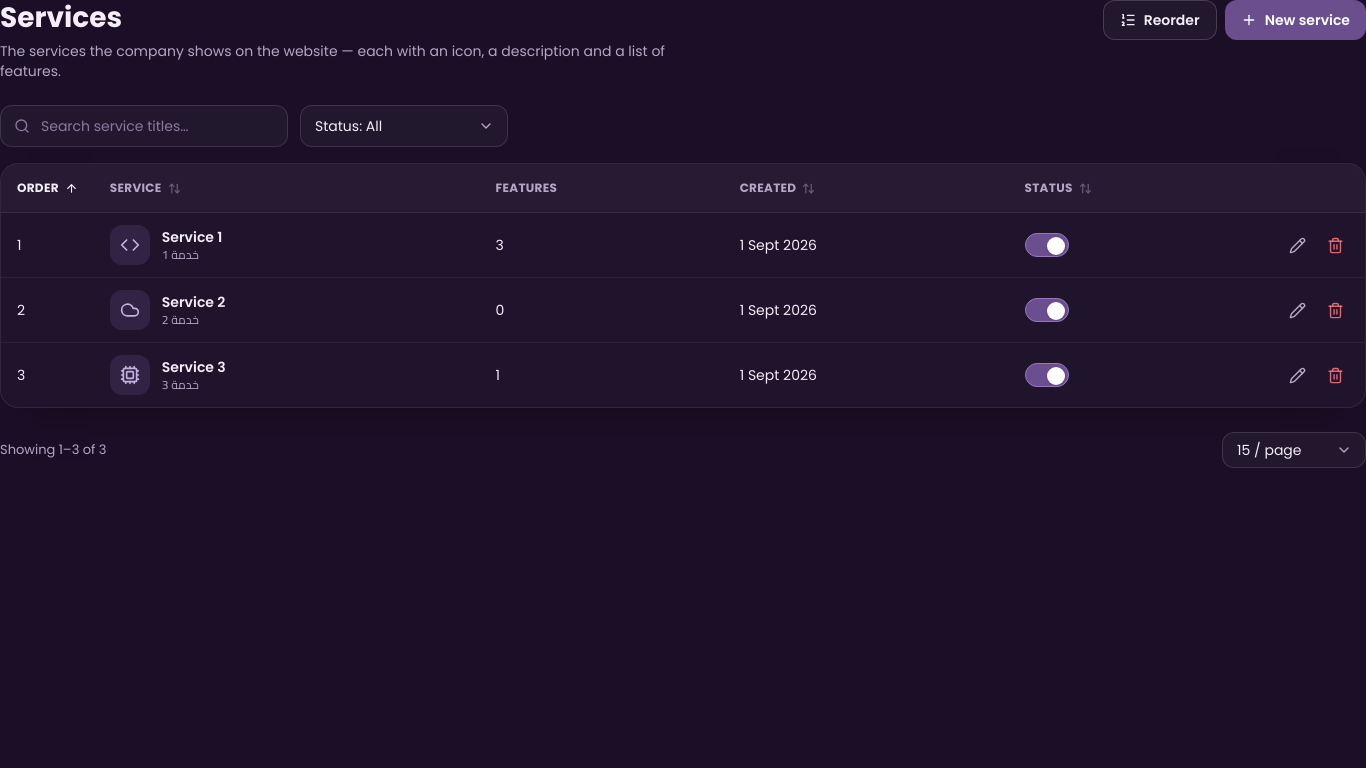
ServiceList › delete › does nothing when the dialog is cancelled
Expected: the text "Service 2" is shown, [162, 292, 225, 312]
Click the button named "Delete" in the row of "Service 2". click: click(1335, 310)
box: [1317, 292, 1353, 328]
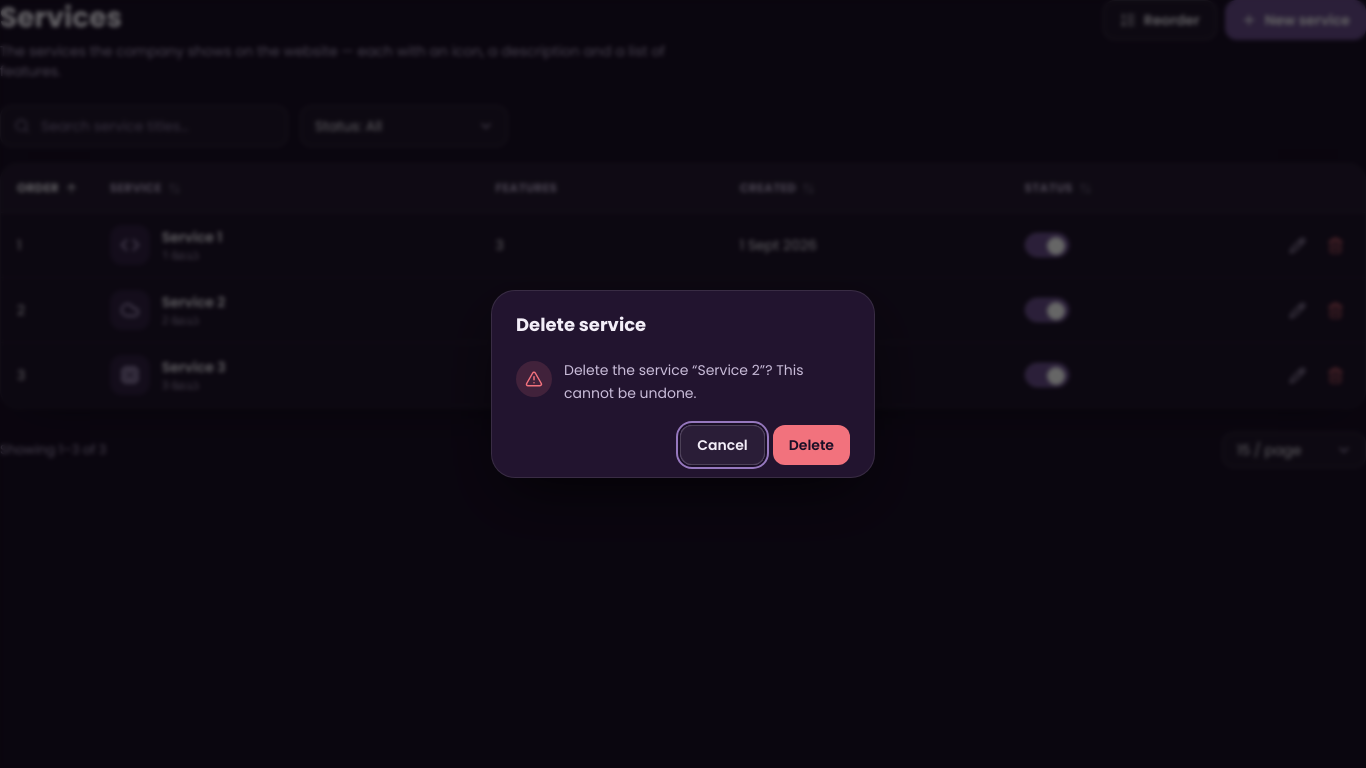
Click the button "Cancel". click: click(723, 445)
box: [680, 425, 765, 465]
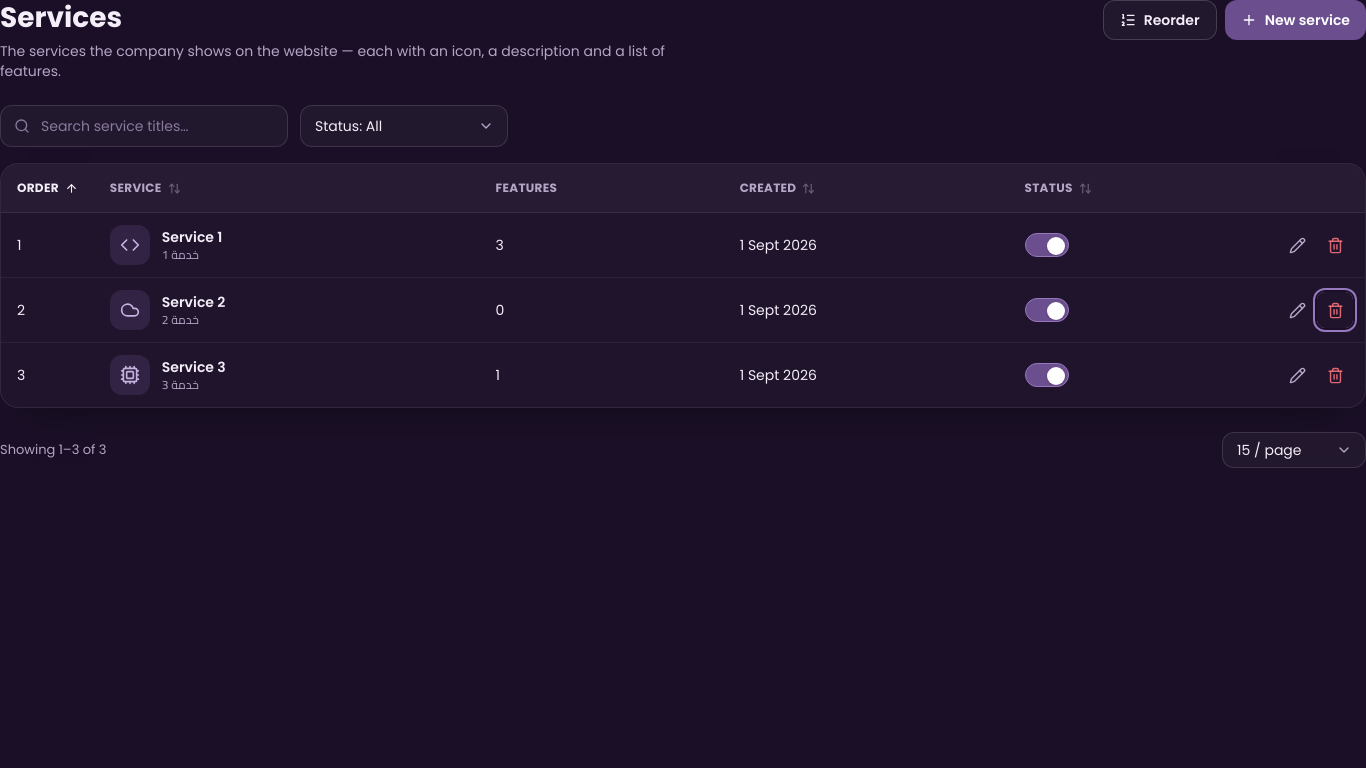
Result: the dialog is gone
